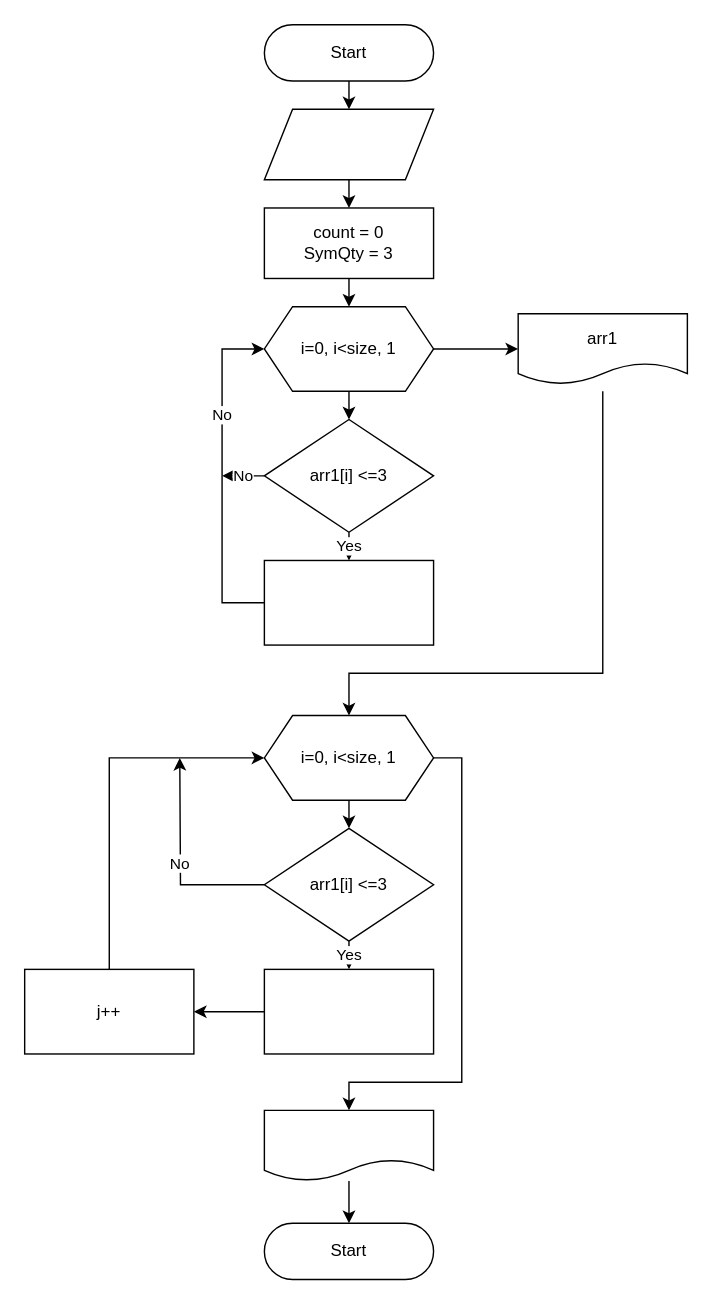
The diagram is 712 pixels wide and 1304 high, and some of its shapes have lost their labels. Each missing label, with the centre of its shape:
"arr1 arr2 size" belongs at (348,144).
"arr2" belongs at (348,1145).
"arr2[j] = arr1[i]" belongs at (348,1011).
"count++" belongs at (348,602).
